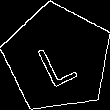L_NW: (33, 29, 82, 88)
